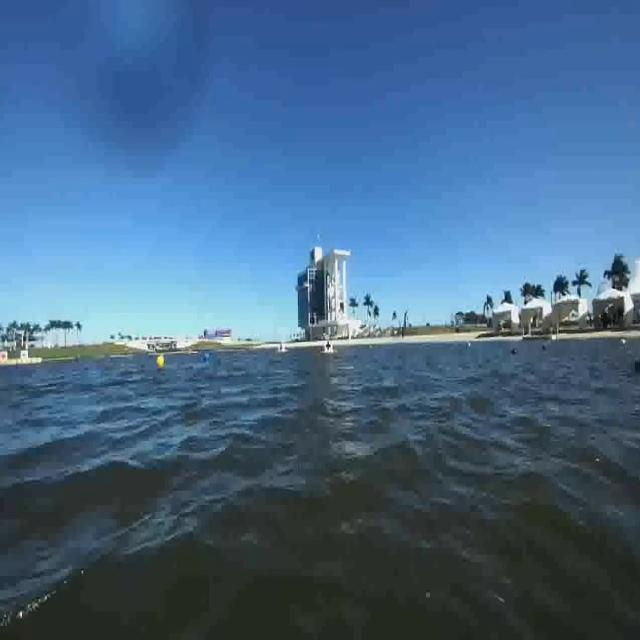blue-buoy: (202, 352, 209, 364)
yellow-buoy: (158, 353, 166, 370)
